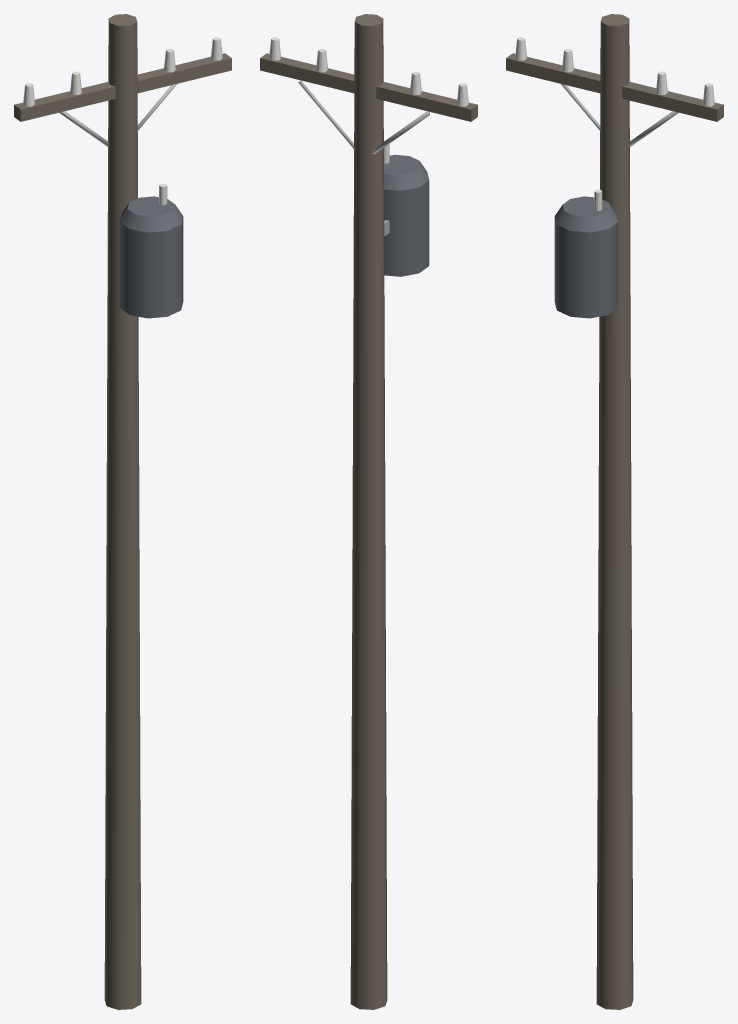
File: utility_pole.glb
3 views of the same model, side by side, from view 1: azimuth 30°, elevation 25°; view 2: azimuth 150°, elevation 25°; view 3: azimuth 330°, elevation 25° (orthographic).
Visible parts, largest first — view 1: utility_pole; view 2: utility_pole; view 3: utility_pole.
Part boxes in pixels (box(x1,y1,x2,y2)): utility_pole: box(14, 14, 231, 1009); utility_pole: box(260, 14, 477, 1009); utility_pole: box(506, 14, 723, 1009).
Bounding box in the file's own units: 1.8 × 8 × 0.8.
Materials: 1 (1 with a texture image).
